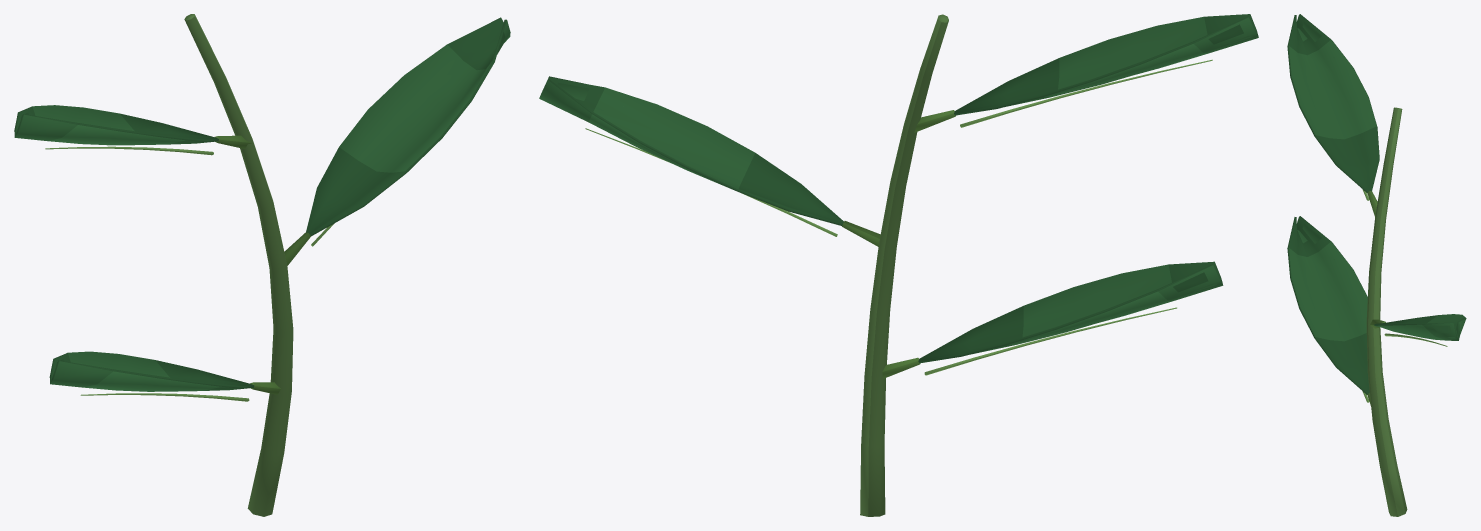
Rendered from garden-tulip-bloom-stem-0.glb.
3 views of the same model, side by side, from view 1: azimuth 30°, elevation 25°; view 2: azimuth 150°, elevation 25°; view 3: azimuth 270°, elevation 25° (orthographic). The views are drawn at different scales.
Parts seen in each view (by area): view 1: tulip-bloom-stem-0; view 2: tulip-bloom-stem-0; view 3: tulip-bloom-stem-0.
Part boxes in pixels (x1,y1,x2,y2): tulip-bloom-stem-0: (14,14,510,516); tulip-bloom-stem-0: (539,14,1258,516); tulip-bloom-stem-0: (1287,14,1466,516).
Size of the model in its own units: 0.377 by 0.3114 by 0.1302.
